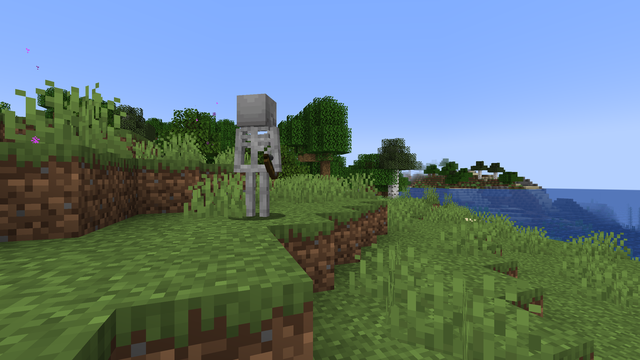squelettes: (238, 92, 277, 219)
